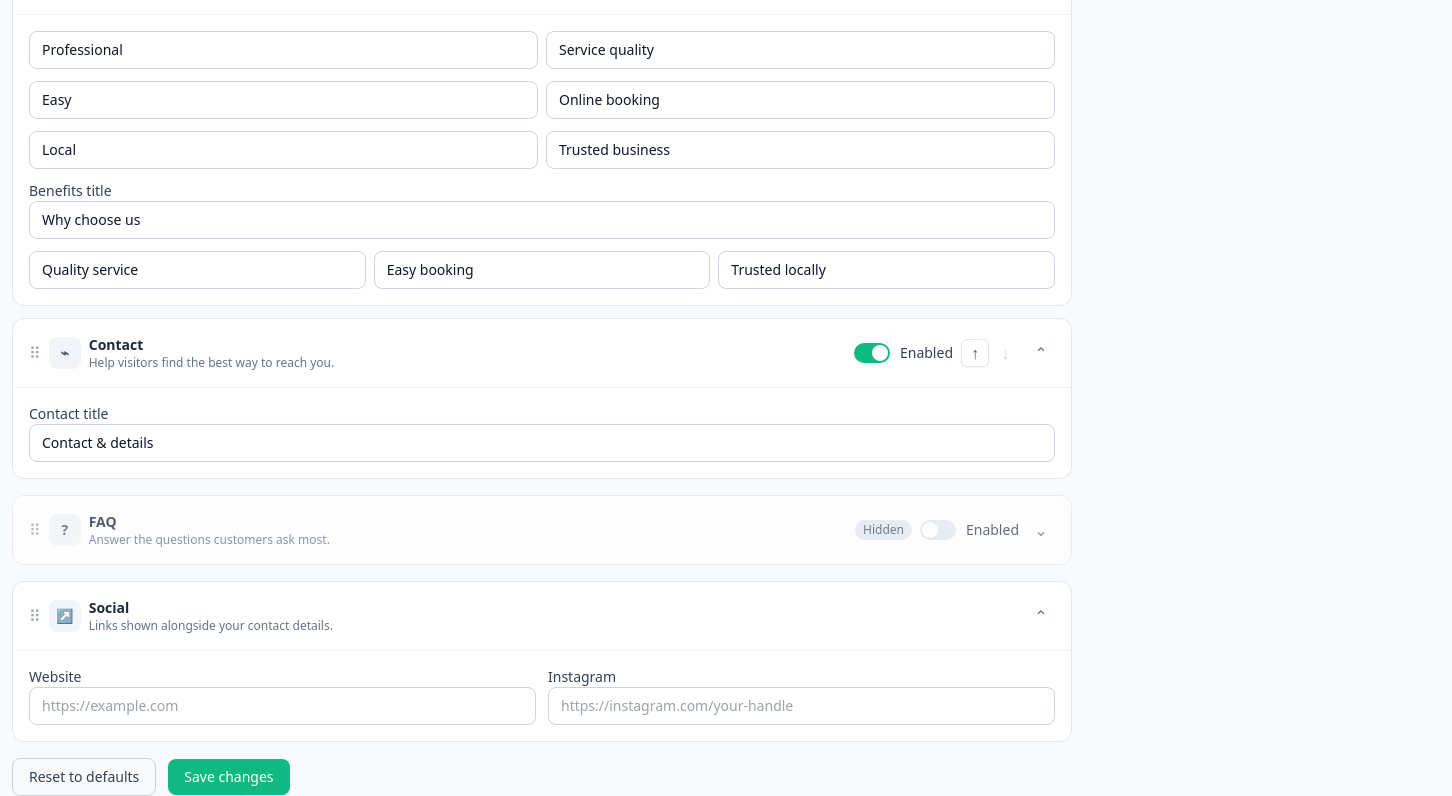
Test: PublicProfileSettingsCard › shows error state when save fails
(page scrolled)
Step 1. Click the button with test id "public-profile-save-button" → coordinates (229, 777), box [168,759,290,795]
(page scrolled)
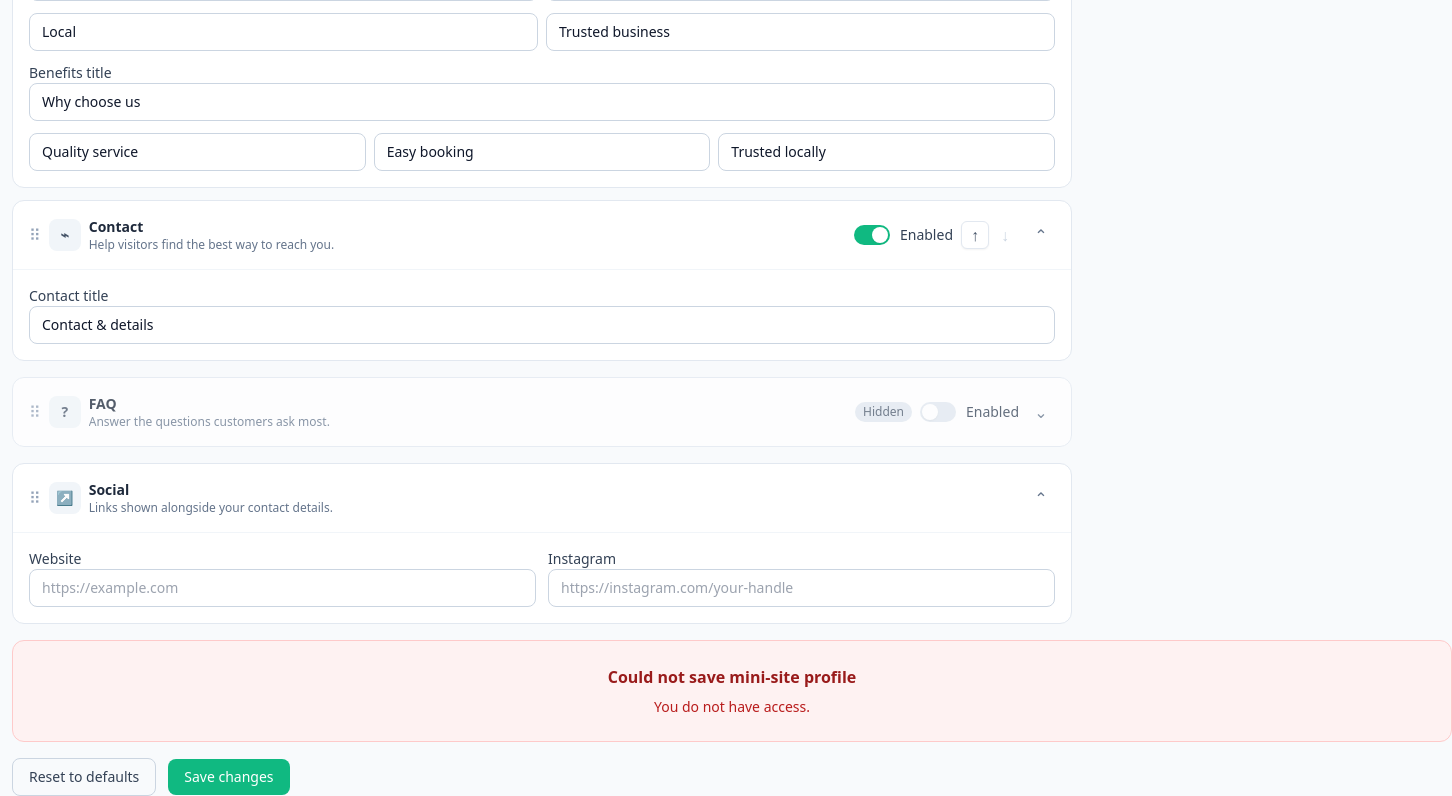
Result: the element with test id "mini-site-editor-save-error" is shown at [12,640,1451,742]
